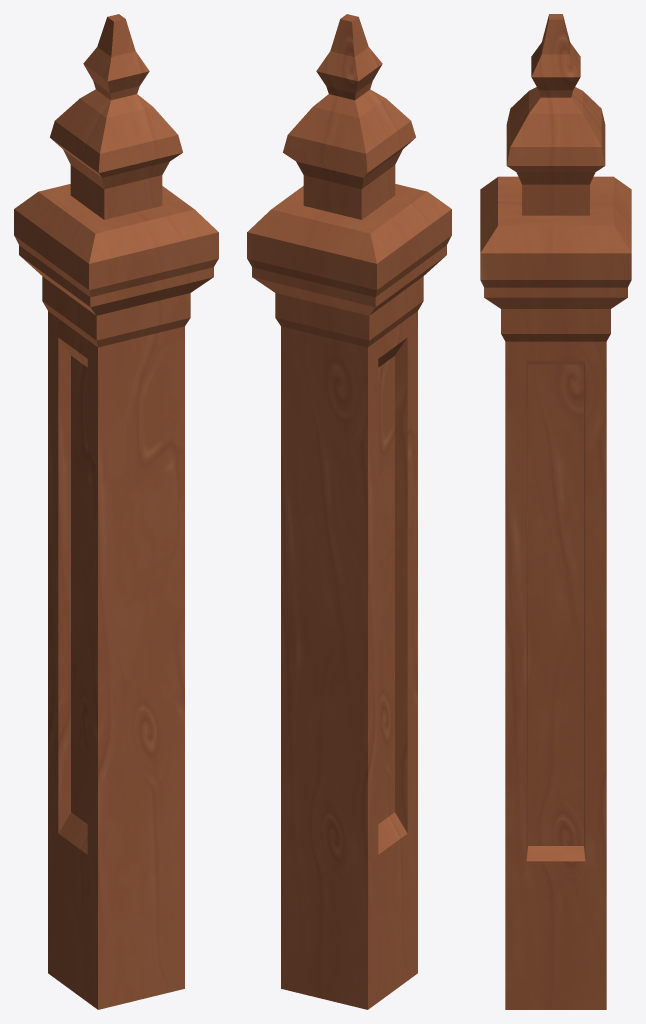
File: StationFramePillar_A_002.fbx
The picture shows the model from 3 angles, left to right: view 1: azimuth 30°, elevation 25°; view 2: azimuth 150°, elevation 25°; view 3: azimuth 270°, elevation 25°; orthographic projection.
Parts seen in each view (by area): view 1: StationFramePillar_A_002; view 2: StationFramePillar_A_002; view 3: StationFramePillar_A_002.
Part boxes in pixels (left/top/right/bottom): StationFramePillar_A_002: left=14, top=14, right=218, bottom=1009; StationFramePillar_A_002: left=247, top=14, right=451, bottom=1009; StationFramePillar_A_002: left=480, top=14, right=631, bottom=1009.
Bounding box in the file's own units: 17.82 × 126 × 17.82.
Materials: 1 (1 with a texture image).
